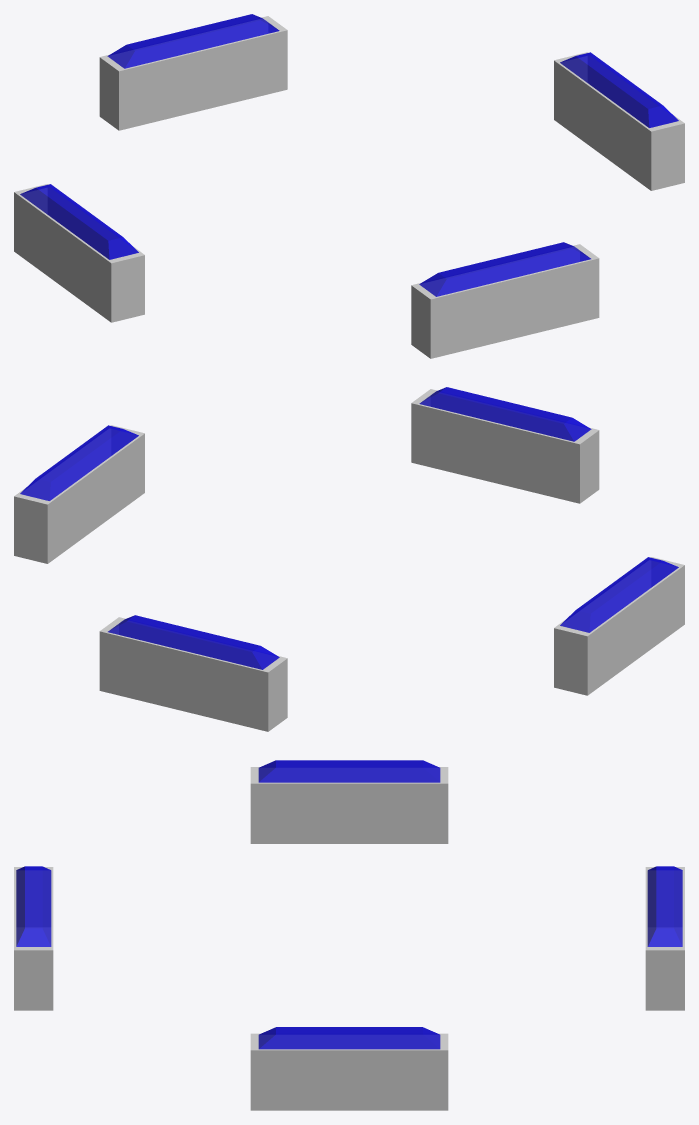
The model's file is PieceShield.fbx.
The picture shows the model from 3 angles, top to bottom: view 1: azimuth 30°, elevation 25°; view 2: azimuth 150°, elevation 25°; view 3: azimuth 270°, elevation 25°; orthographic projection.
Parts seen in each view (by area): view 1: GemmeShield; view 2: GemmeShield; view 3: GemmeShield.
Part boxes in pixels (x1=…): GemmeShield: x1=14, y1=14, x2=684, y2=358; GemmeShield: x1=14, y1=387, x2=684, y2=731; GemmeShield: x1=14, y1=760, x2=684, y2=1110.
Size of the model in its own units: 1.7 by 1.7 by 0.2.
